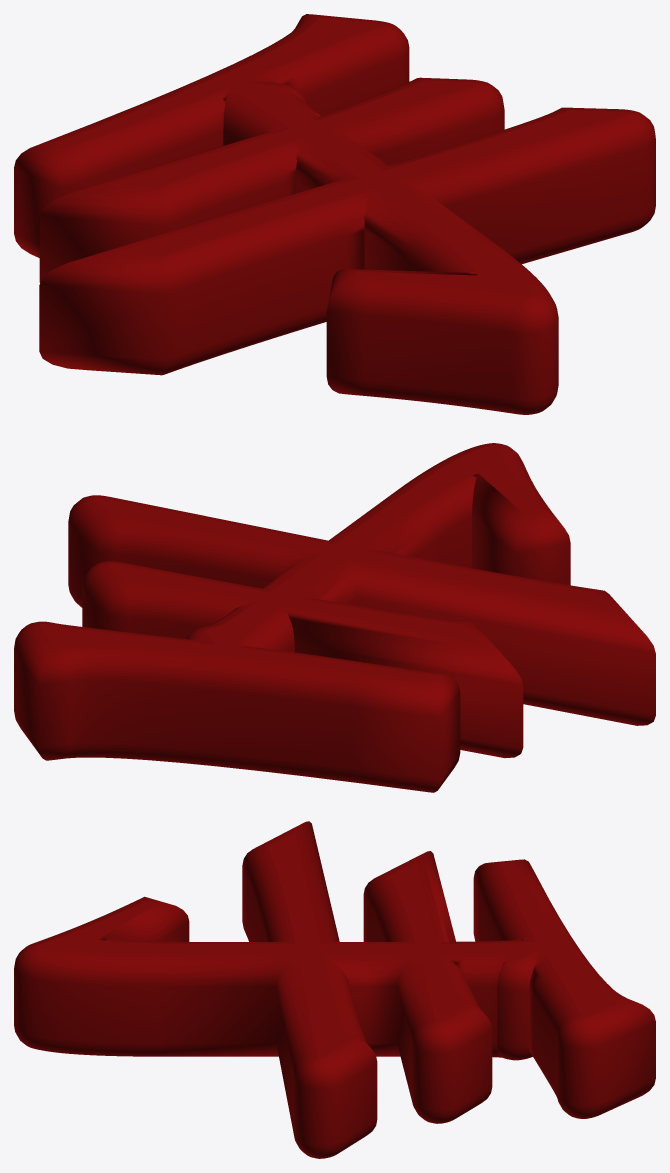
Rendered from shou.fbx.
The picture shows the model from 3 angles, top to bottom: view 1: azimuth 30°, elevation 25°; view 2: azimuth 150°, elevation 25°; view 3: azimuth 270°, elevation 25°; orthographic projection. The views are drawn at different scales.
Visible parts, largest first — view 1: Text; view 2: Text; view 3: Text.
Boxes of the visible parts, x1,y1,x2,y2 form: Text: (14,14,655,414); Text: (14,443,655,792); Text: (14,821,655,1158).
Bounding box in the file's own units: 78.55 × 14 × 82.
